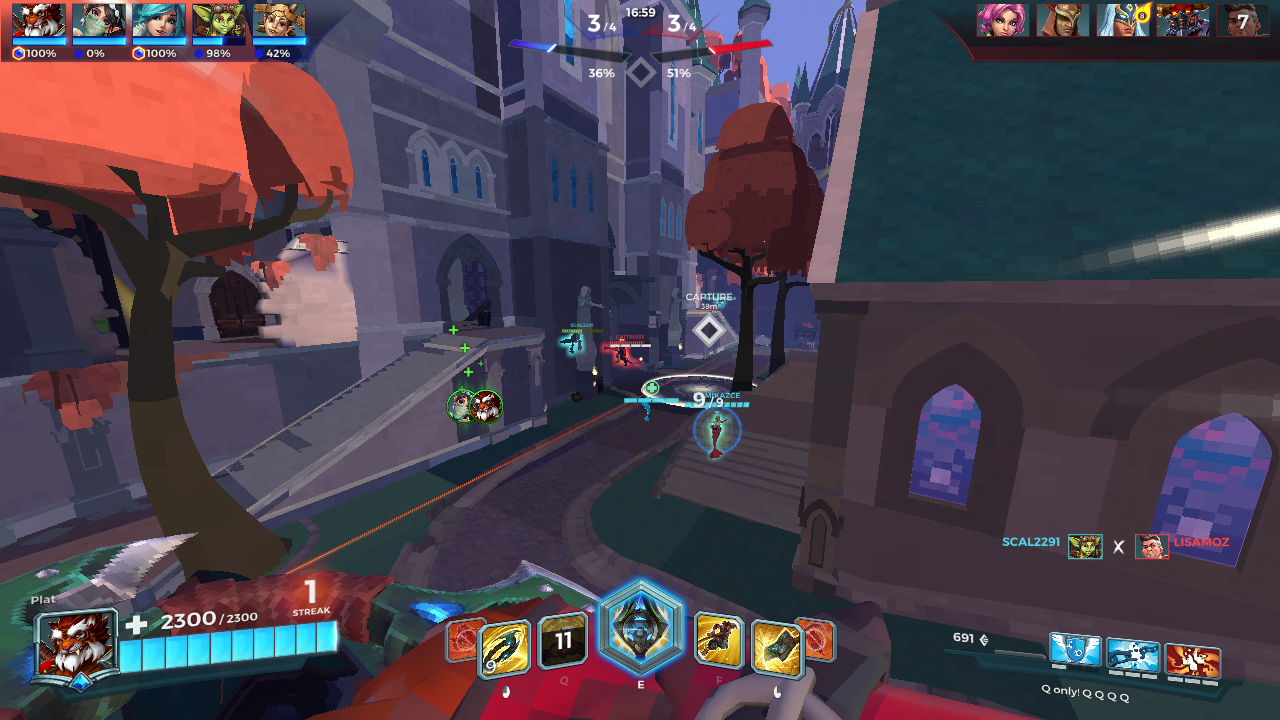model: (598, 339, 636, 370)
